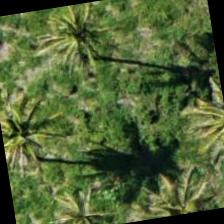Kelapa_Sawit: (35, 0, 136, 82), (0, 78, 70, 177), (23, 163, 123, 223)
